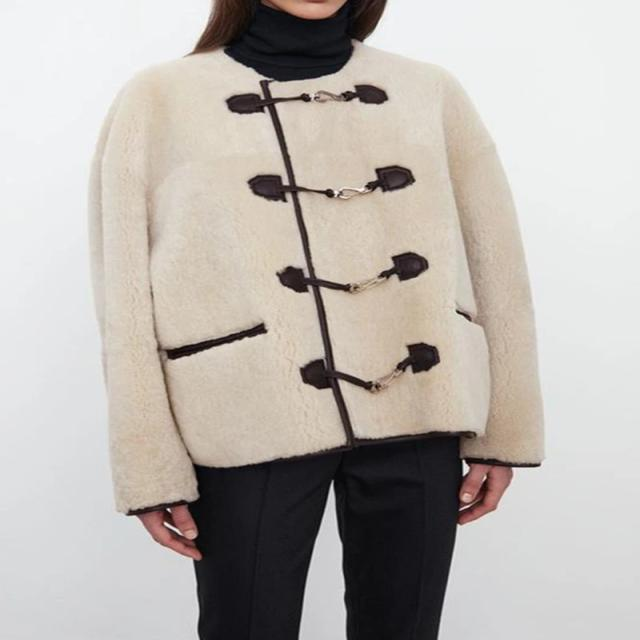coat: (80, 37, 551, 525)
trousers: (180, 429, 470, 640)
